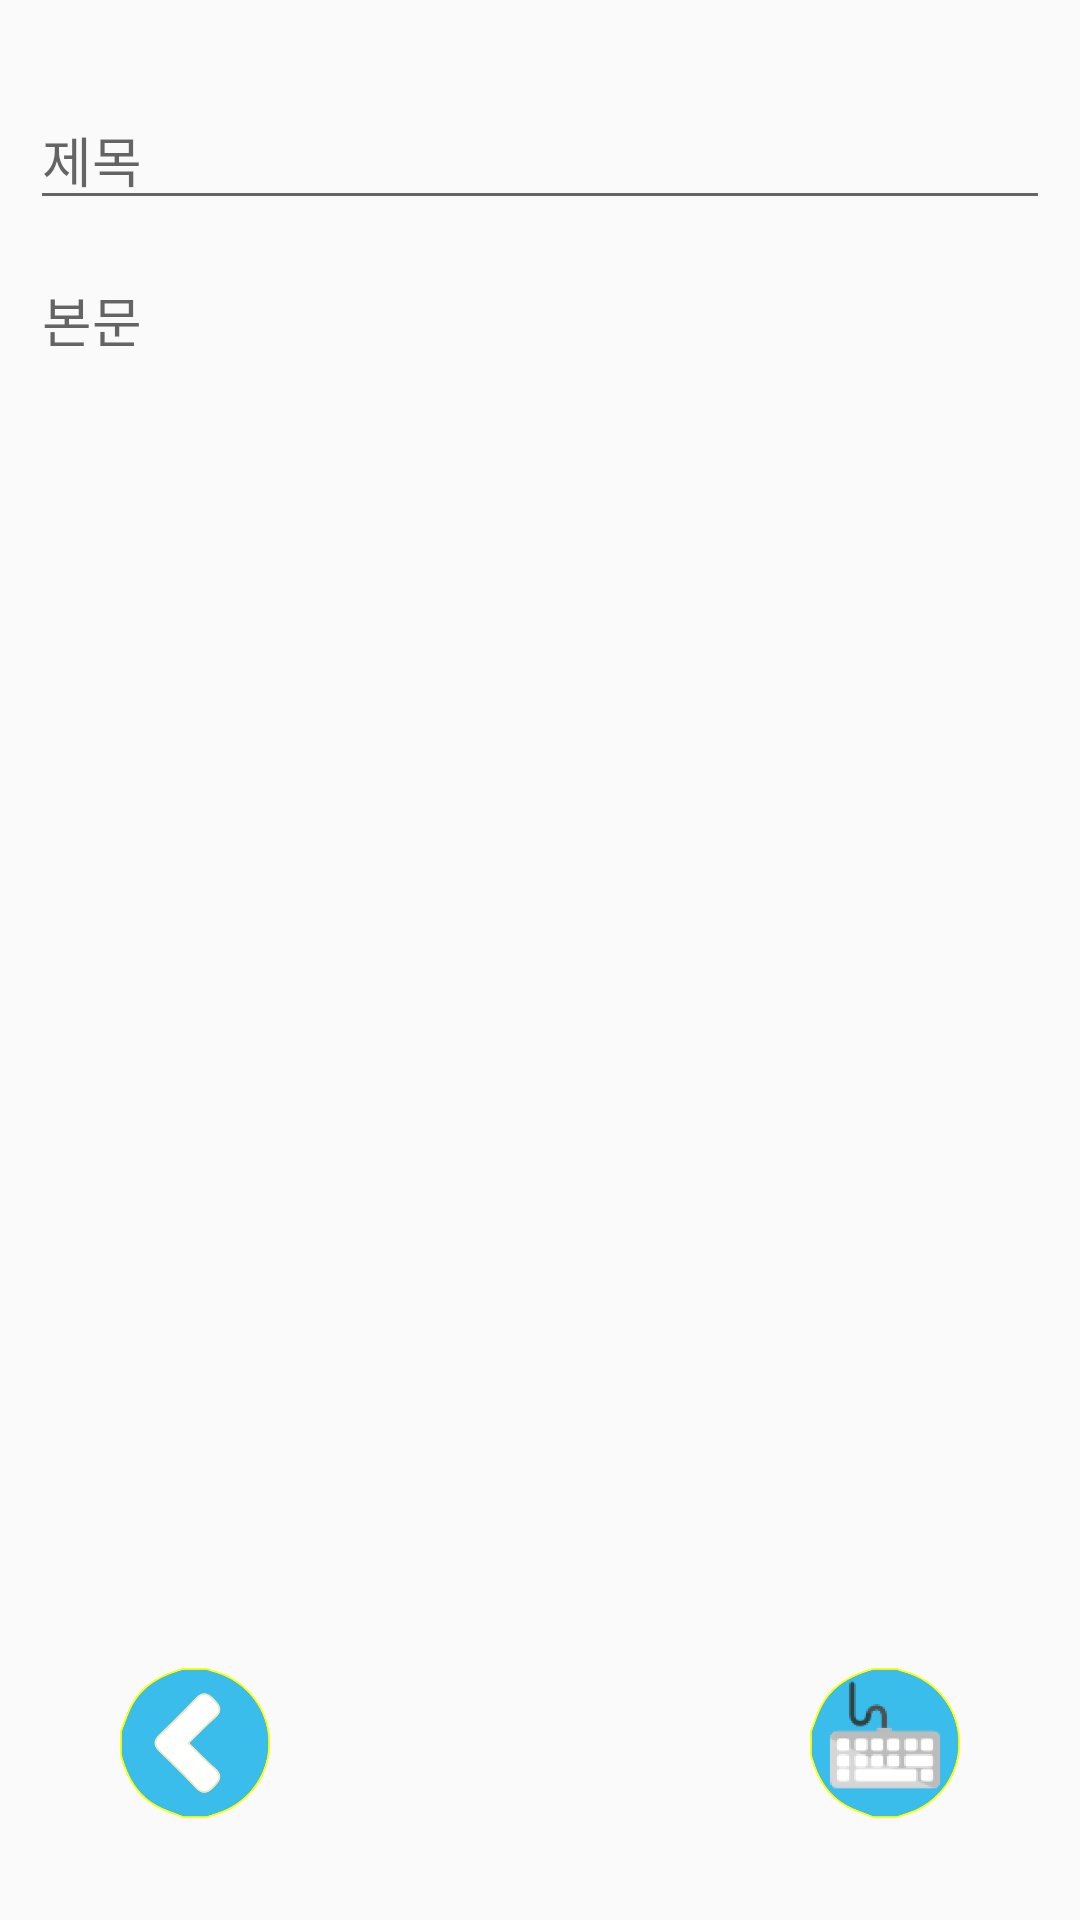

Point at icon controls on the screen. Image size 1080 x 1920, points as (x,y).
keyboard: (885,1743)
left arrow: (195,1743)
